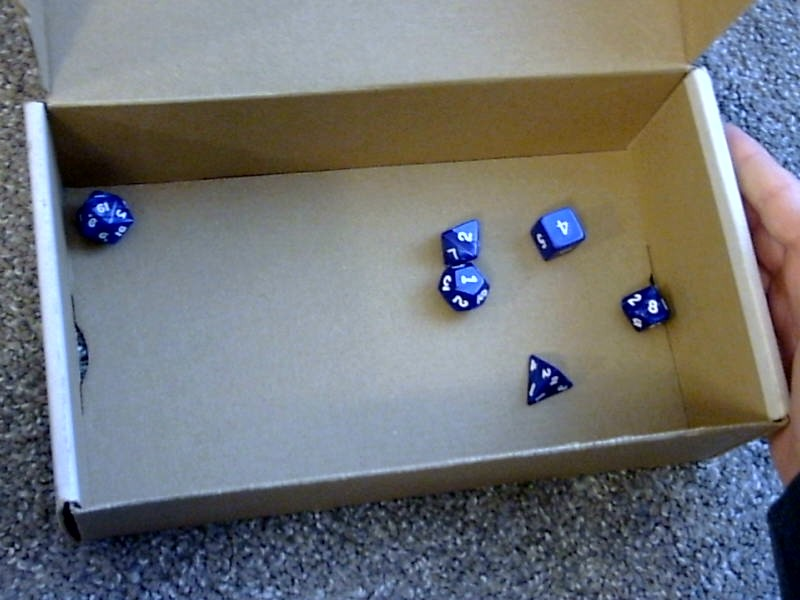d10 8: (619, 280, 677, 334)
d12 1: (437, 260, 496, 312)
d20 19: (71, 183, 135, 252)
d4 2: (520, 347, 575, 407)
d6 4: (524, 204, 586, 258)
d8 2: (431, 215, 487, 264)
